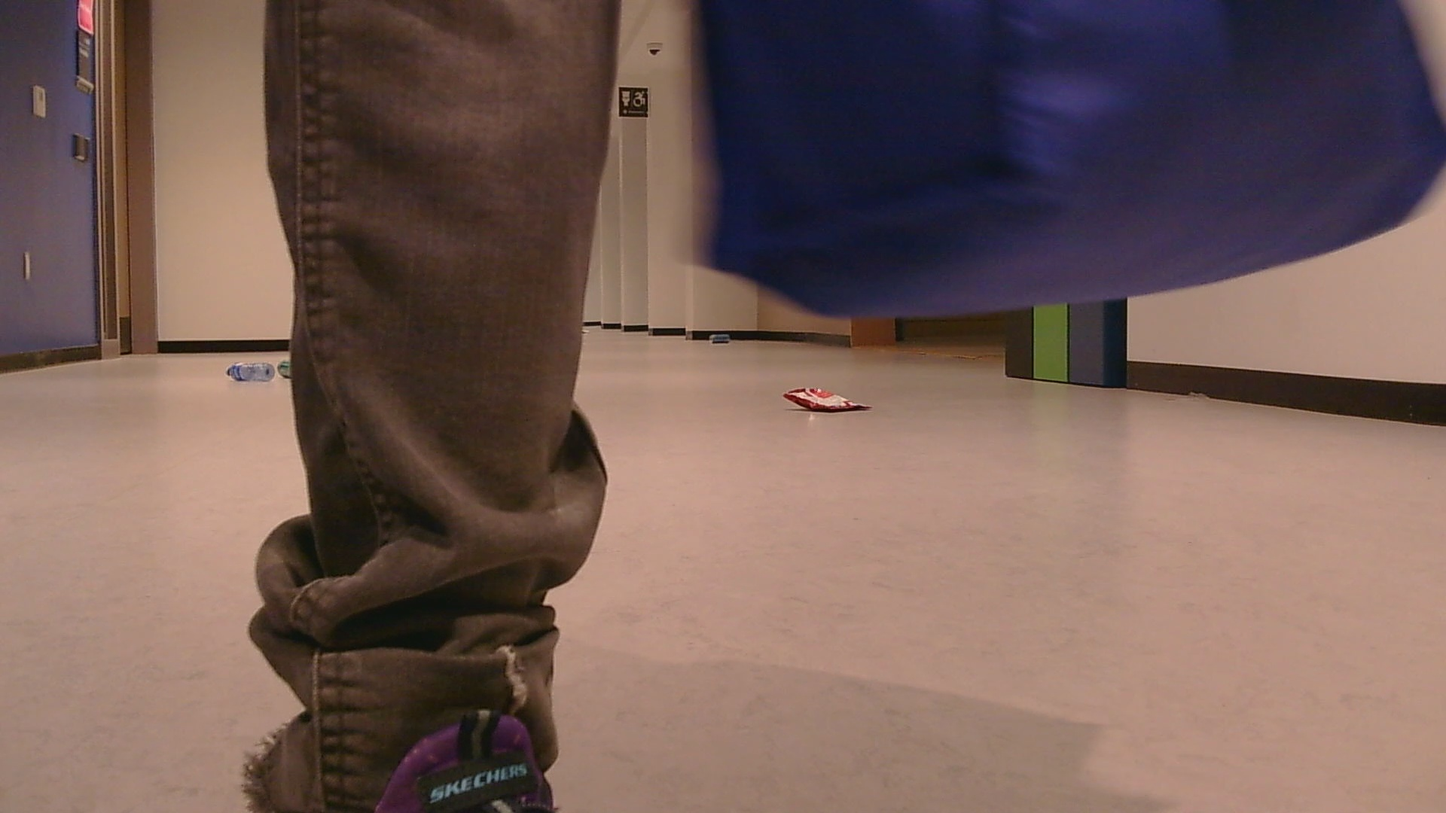carton: (773, 384, 897, 426), (217, 357, 271, 384), (700, 319, 735, 352), (270, 355, 295, 379)
